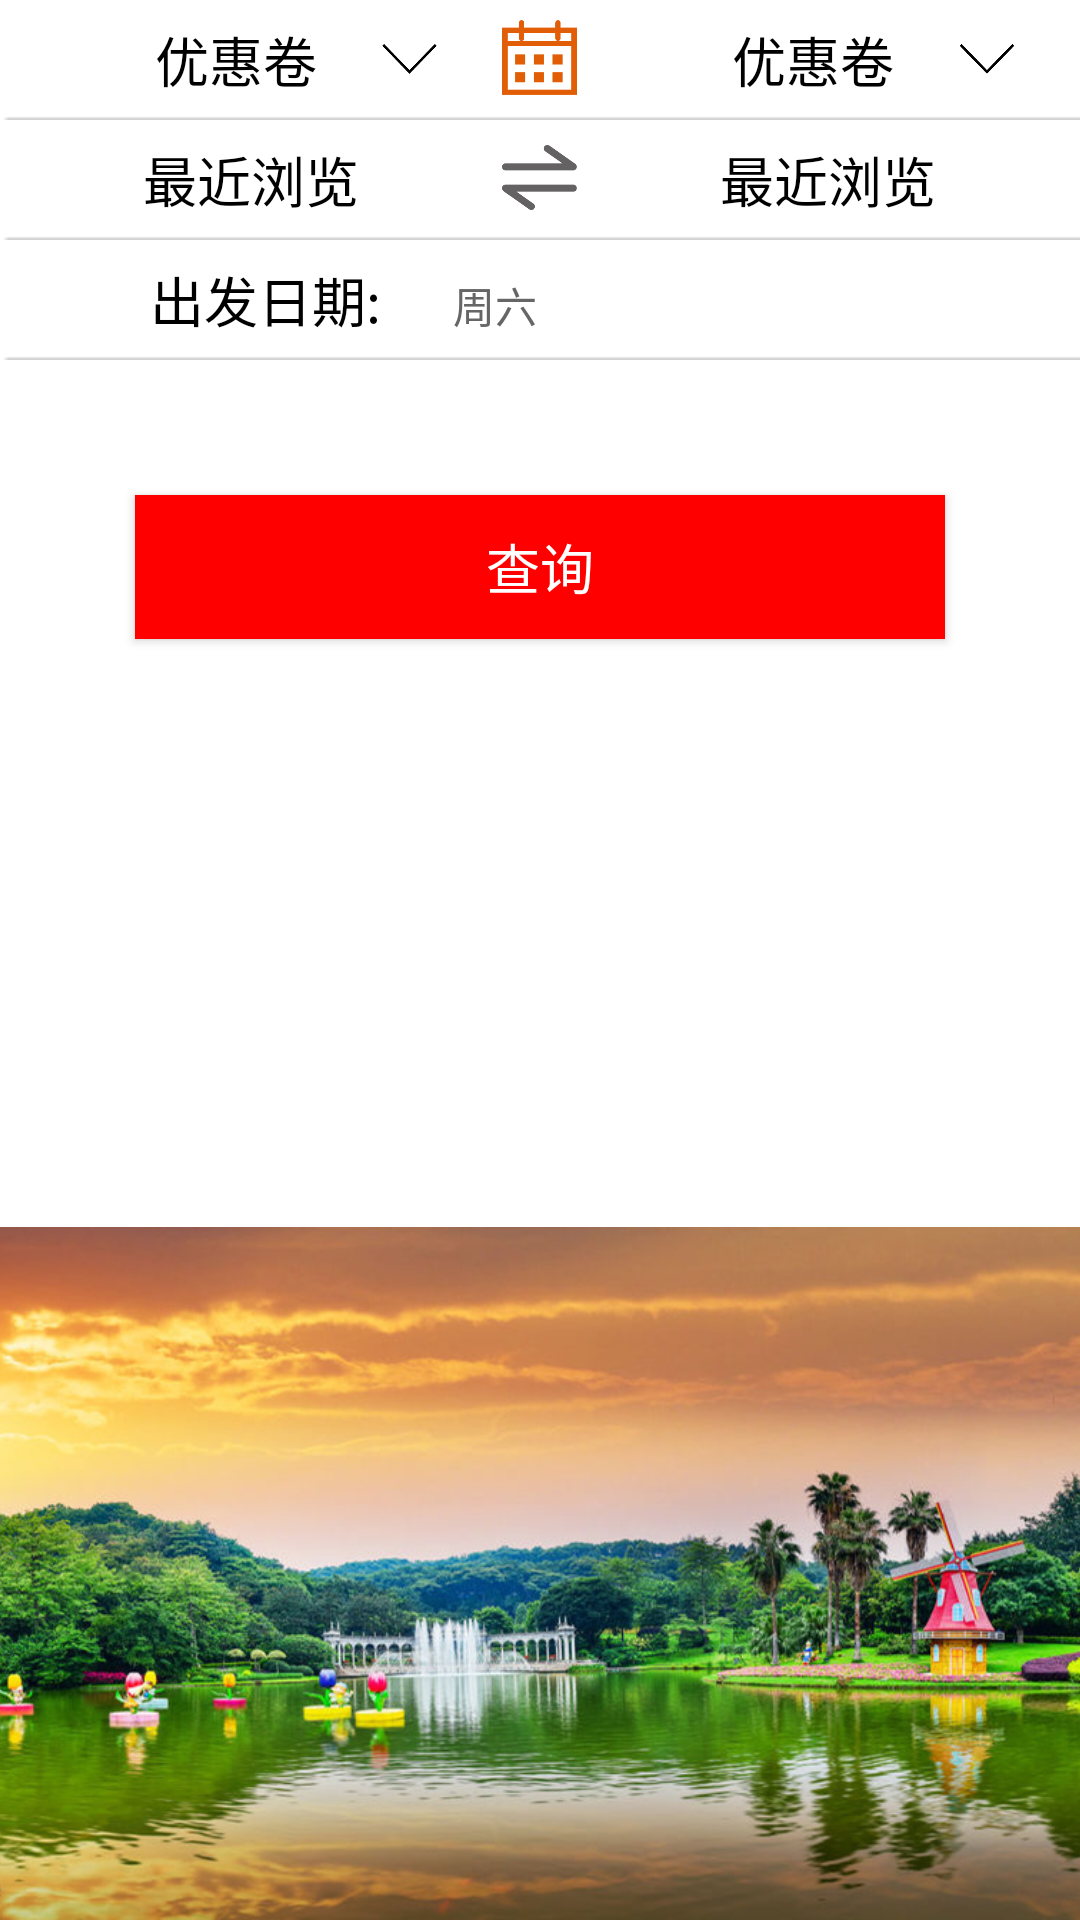

Locate icon controls on the screen. Image size 1080 x 1920, boxes as detection(x1, y1, x2, y2).
date: detection(502, 20, 577, 95)
down arrow: detection(382, 44, 437, 74), detection(960, 44, 1014, 74)
transfer: detection(502, 145, 577, 210)
